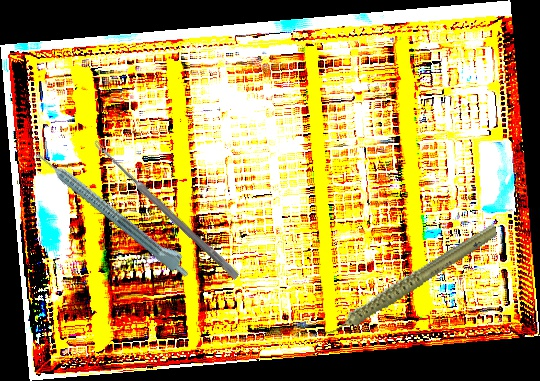Handpiece: (305, 222, 511, 339), (32, 141, 197, 282)
Surgical Spoon: (91, 139, 241, 280)
